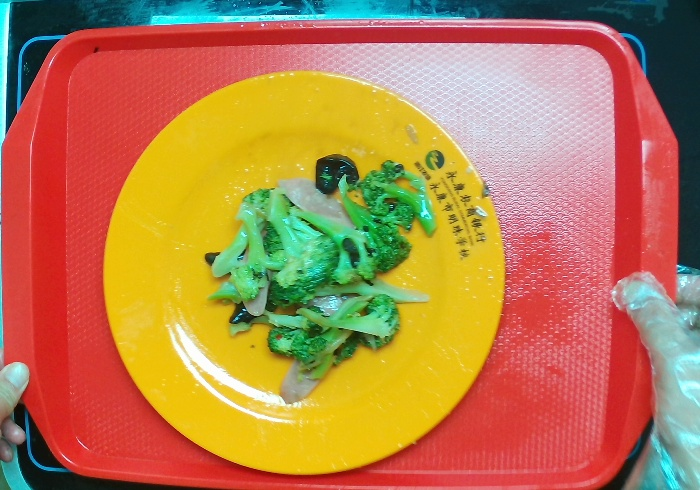YKMZ-Ju_Se_Mian_Pan: (100, 75, 508, 478)
